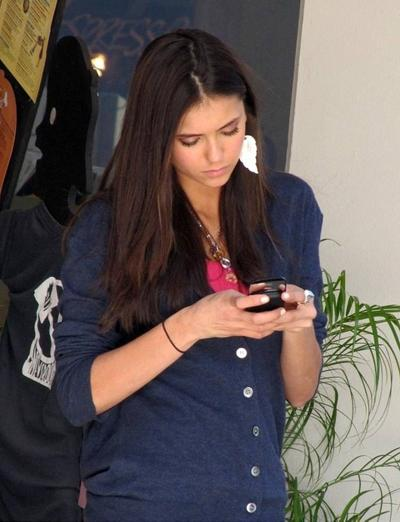person: (54, 28, 327, 522)
